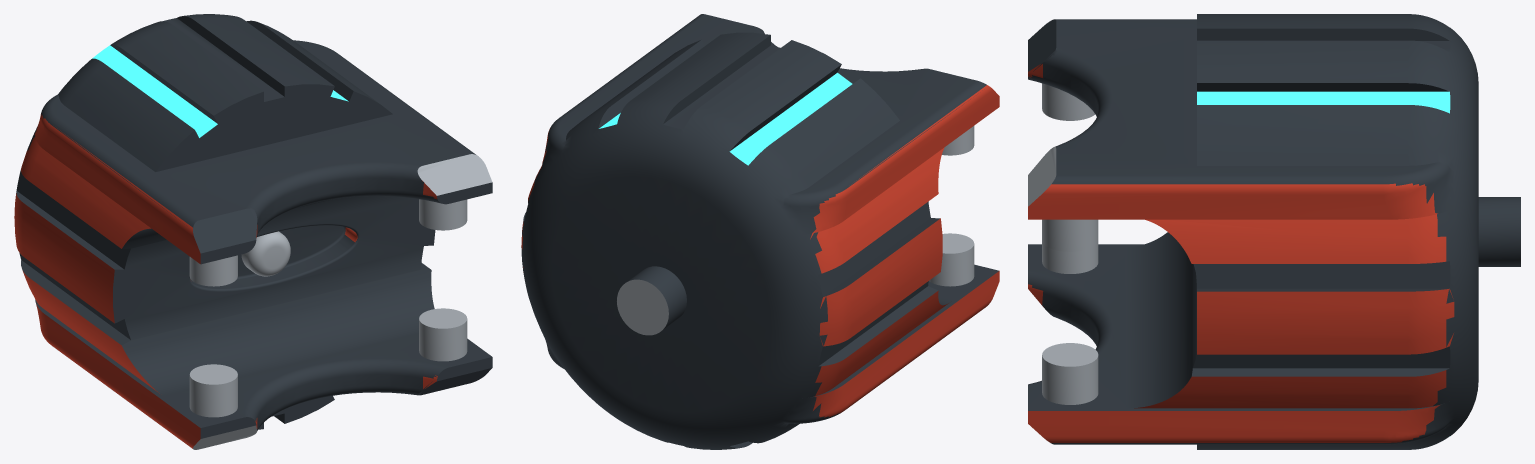
Rendered from gripper-actuator.glb.
3 renders of one model, left to right at view 1: azimuth 30°, elevation 25°; view 2: azimuth 150°, elevation 25°; view 3: azimuth 270°, elevation 25°, orthographic. The views are drawn at different scales.
Size of the model in its own units: 0.031 by 0.0309 by 0.035.
